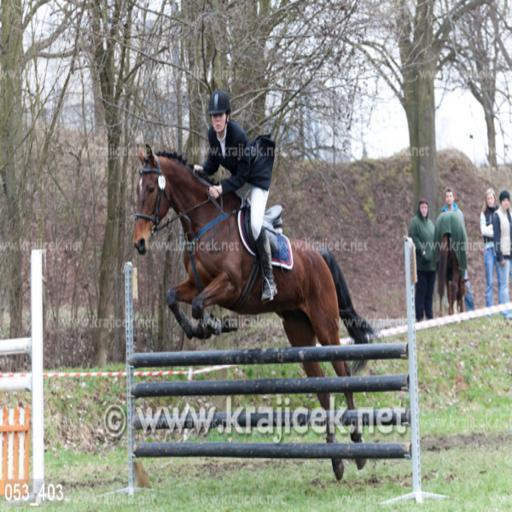horse: (131, 142, 379, 483)
